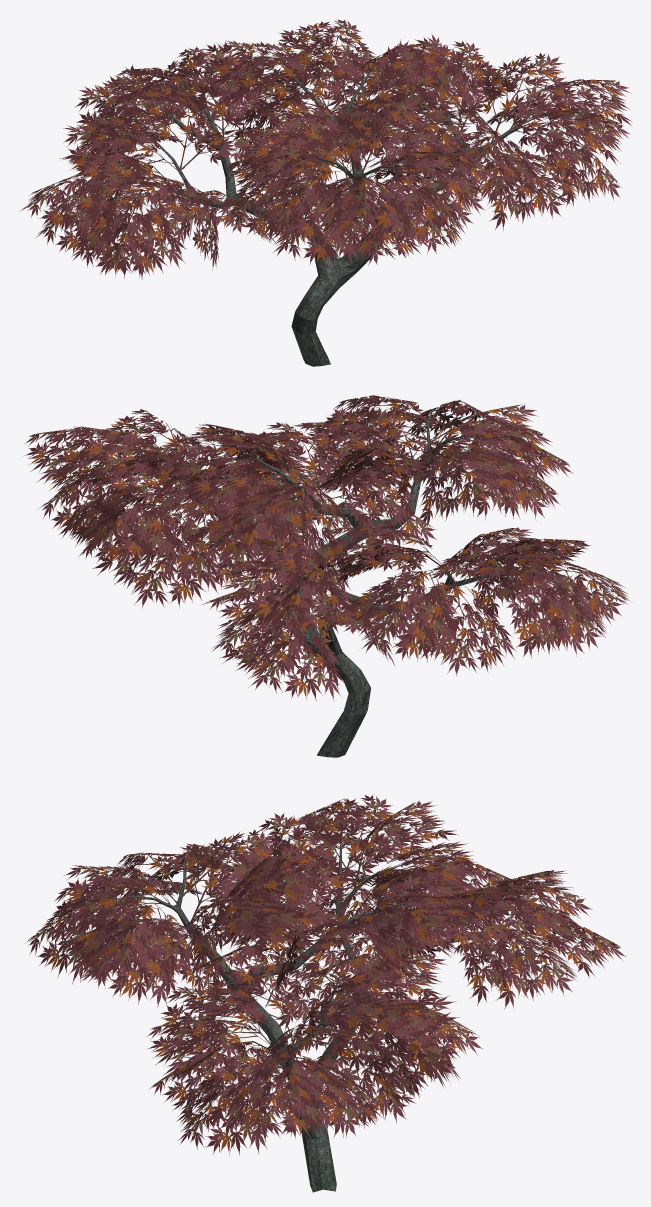
Rendered from JapaneseMaple.fbx.
3 renders of one model, top to bottom at view 1: azimuth 30°, elevation 25°; view 2: azimuth 150°, elevation 25°; view 3: azimuth 270°, elevation 25°, orthographic. The views are drawn at different scales.
Parts seen in each view (by area): view 1: Leaves, Trunk; view 2: Leaves, Trunk; view 3: Leaves, Trunk.
Boxes of the visible parts, x1,y1,x2,y2 form: Leaves: (21, 19, 631, 279); Trunk: (134, 73, 537, 366); Leaves: (24, 395, 628, 701); Trunk: (134, 408, 512, 757); Leaves: (27, 795, 626, 1155); Trunk: (132, 846, 513, 1192).
Size of the model in its own units: 14.19 by 6.5 by 11.57.
2 materials, 2 textured.
